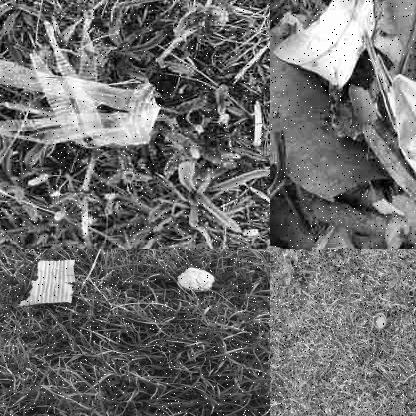cardboard: (24, 261, 78, 305)
plastic: (0, 27, 159, 153), (384, 68, 415, 217), (178, 267, 216, 292), (372, 312, 388, 332)
